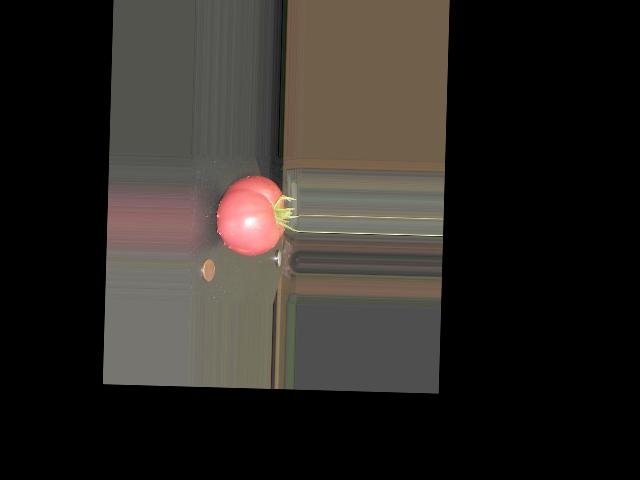tomato: (215, 174, 286, 256)
